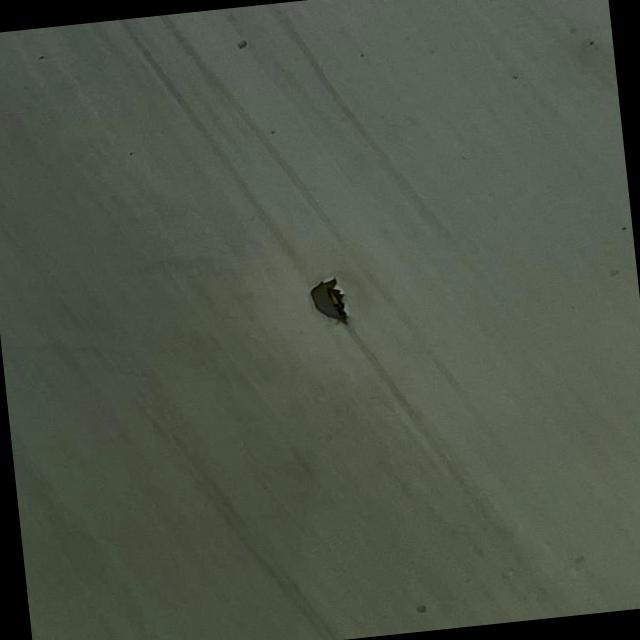crack: (312, 276, 351, 340)
